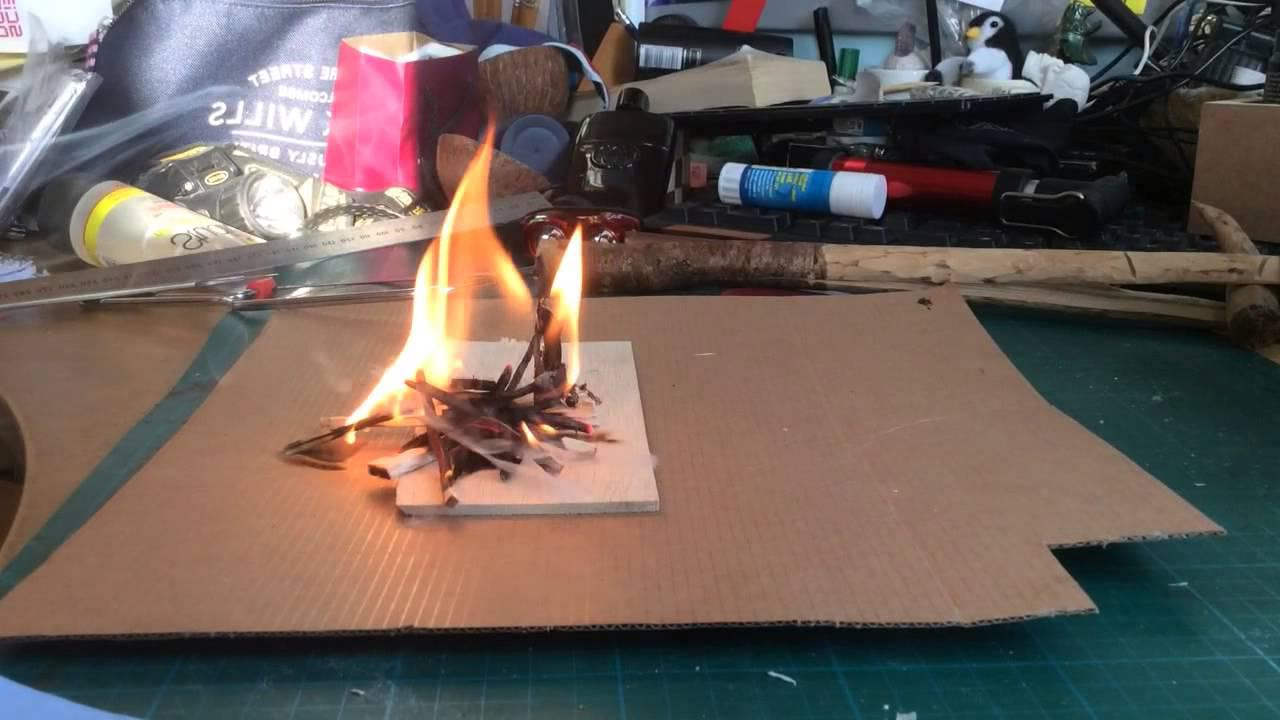fire: (302, 102, 624, 456)
